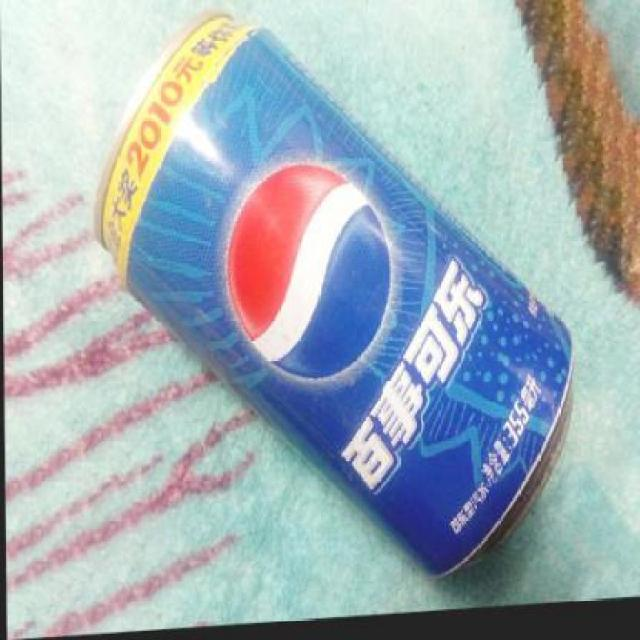Metal: (89, 9, 583, 578)
